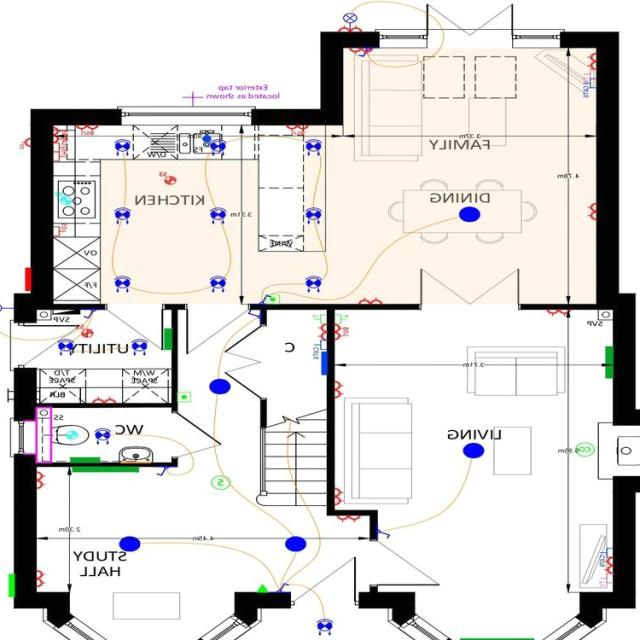BT Entry Point: (250, 578, 269, 594)
Cat 6 Data Socket: (304, 338, 328, 353), (574, 78, 598, 93), (598, 545, 614, 558)
Ceiling Mounted Continuous Extract Fan With Boost Mode Activated By Light Switch: (58, 420, 83, 445)
Ceiling Mounted Continuous Extract Fan With Local Boost Switch: (150, 160, 183, 190), (76, 321, 98, 343)
Co-Ax TV Socket: (594, 570, 614, 585), (575, 66, 597, 76)
Consumer Unit: (44, 306, 84, 319)
Double Socket: (84, 389, 128, 404), (331, 480, 351, 506), (32, 568, 52, 590), (308, 320, 329, 340), (331, 376, 346, 404), (584, 195, 596, 229), (332, 513, 362, 526), (547, 305, 573, 320), (355, 292, 386, 304), (33, 468, 48, 492), (346, 44, 374, 56), (596, 558, 614, 574), (583, 50, 596, 69), (337, 23, 364, 31)
Electric Meter Box: (19, 258, 30, 294)
External Wall Light: (338, 5, 362, 32), (0, 296, 13, 327)
Gas Meter Box: (0, 567, 14, 601)
Hob Switch: (52, 151, 67, 166)
Light Switch: (240, 305, 260, 326), (273, 574, 292, 593), (376, 525, 394, 545), (250, 291, 273, 305), (154, 466, 176, 480), (83, 304, 99, 322), (359, 47, 371, 59)
Low Energy Downlighter: (207, 267, 231, 300), (90, 422, 120, 448), (312, 611, 338, 640), (110, 202, 136, 230), (109, 269, 134, 295), (205, 204, 232, 228), (110, 134, 133, 161), (301, 270, 324, 296), (302, 201, 323, 228), (54, 338, 77, 362), (303, 136, 325, 160), (129, 335, 150, 360), (209, 135, 229, 160)
Low Energy Pendant Light: (449, 200, 491, 228), (457, 441, 495, 463), (281, 532, 310, 556), (117, 532, 142, 554), (208, 376, 232, 398)
Mains Wired Smoke Detector: (203, 468, 234, 497)
Outside Socket: (8, 132, 30, 156)
Outside Tap: (180, 88, 207, 105)
Oven Switch: (48, 217, 70, 249), (52, 140, 68, 151)
Programmable Room Thermostat: (176, 388, 193, 412), (264, 292, 280, 304)
Radiator: (63, 461, 145, 483), (453, 632, 538, 640), (62, 449, 102, 465), (159, 324, 173, 354), (602, 342, 612, 382)
Recirculating Extractor Fan: (51, 183, 82, 214)
Telephone Socket: (308, 305, 328, 327), (334, 308, 356, 324)
USB Double Socket: (332, 322, 354, 341), (281, 124, 310, 138), (72, 125, 100, 136), (51, 124, 70, 140)
Underfloor Heating Manifold: (316, 352, 328, 377)
Water Entry Position: (192, 130, 212, 145)
